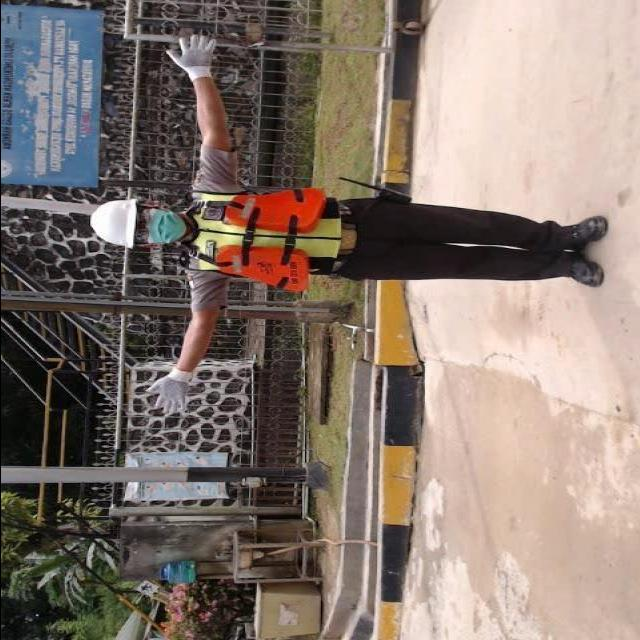helmet: (88, 188, 144, 252)
jacket: (174, 176, 344, 286)
